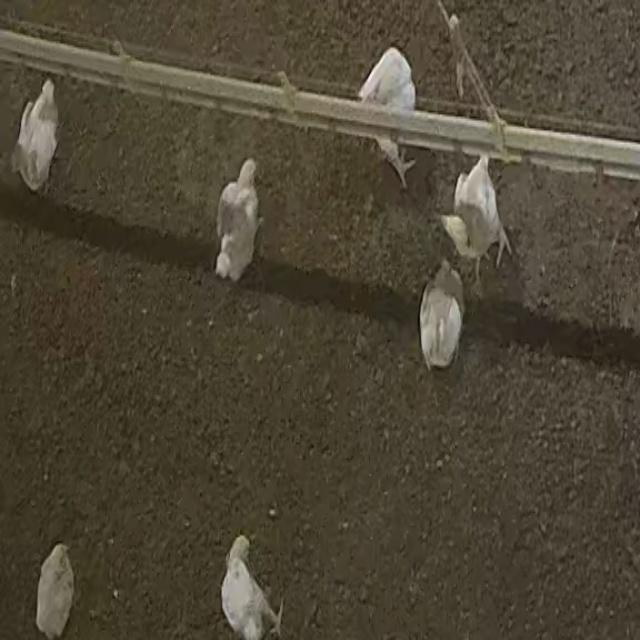chicken: (432, 155, 518, 277), (212, 532, 290, 640), (210, 151, 268, 288), (416, 257, 468, 375)
